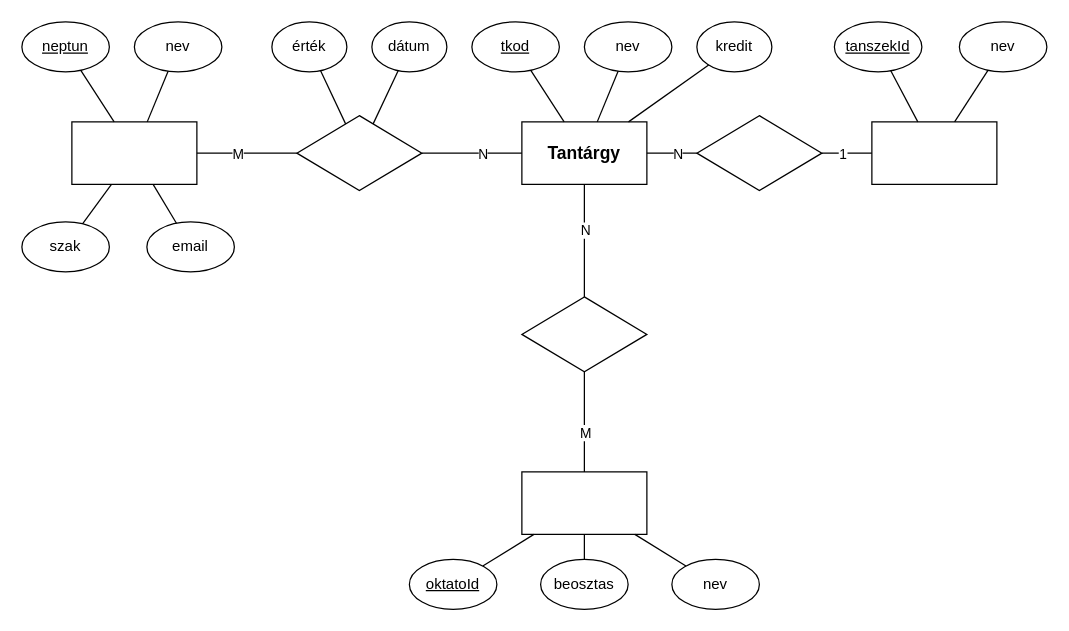
This 1069x631 diagram has some shape labels left out. Here are the shapes that lost their labels. From the top down, the centre of each, then its label:
At [134,152]: "Hallgató".
At [359,152]: "Jegy".
At [759,152]: "Gondoz".
At [934,152]: "Tanszék".
At [584,334]: "Oktat".
At [584,502]: "Oktató".
